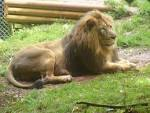lion: (6, 9, 137, 90)
